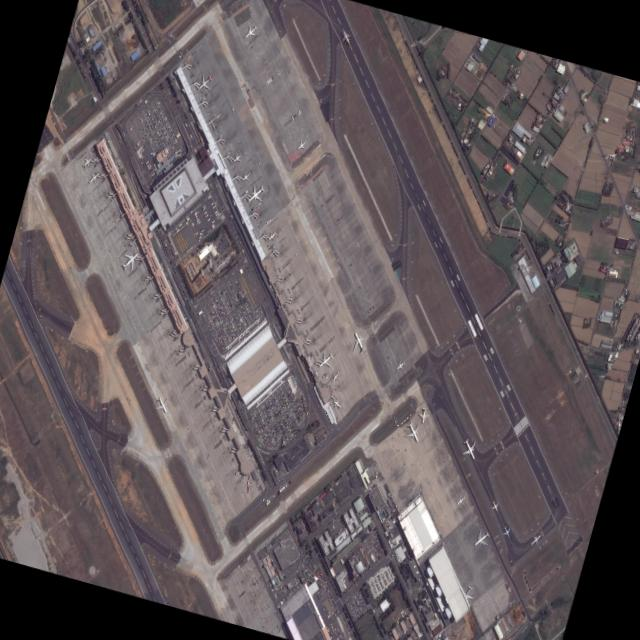plane: (244, 177, 269, 210), (401, 417, 424, 446), (458, 433, 480, 463), (315, 346, 337, 375), (118, 247, 139, 277), (349, 327, 370, 357), (195, 68, 215, 96), (471, 526, 491, 552), (151, 393, 170, 415), (242, 21, 260, 42), (339, 27, 354, 49), (85, 168, 101, 187), (500, 521, 514, 541), (528, 531, 541, 550), (231, 147, 244, 166), (266, 227, 279, 245), (394, 356, 407, 374), (295, 136, 308, 154), (80, 153, 93, 171), (454, 492, 467, 509), (239, 169, 252, 185), (489, 497, 500, 514), (329, 369, 341, 384), (419, 407, 429, 423), (331, 398, 343, 411), (243, 479, 252, 494)
